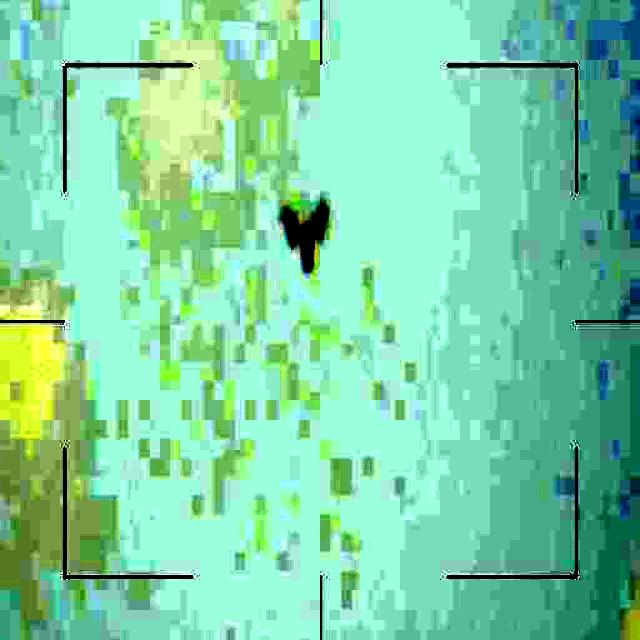bird: (276, 201, 332, 268)
